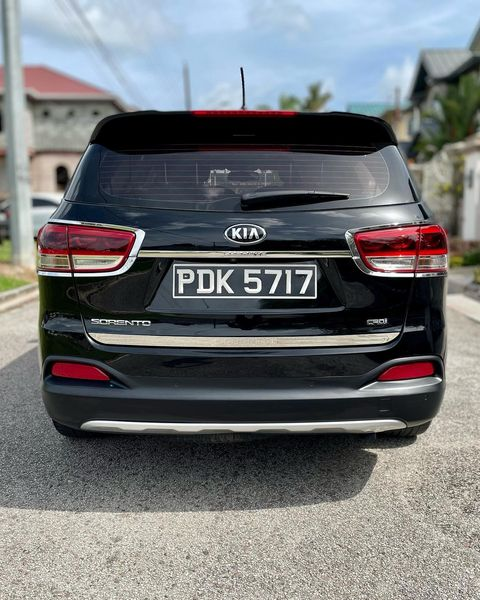License-Plate: (173, 264, 314, 296)
